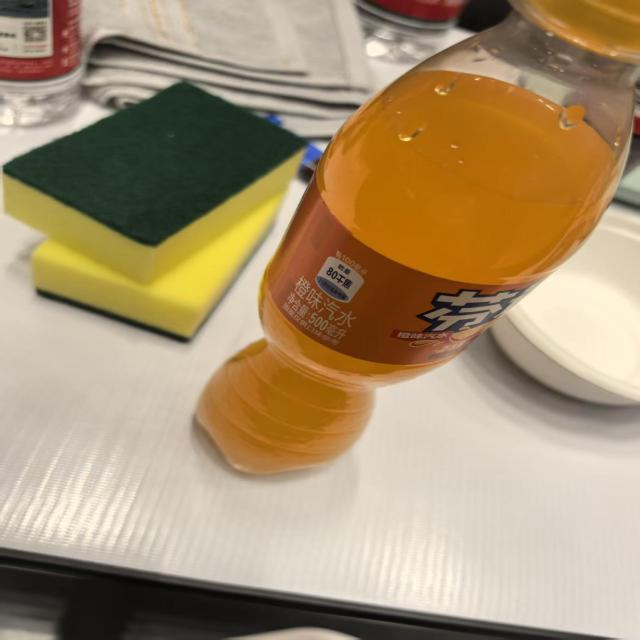orange: (402, 282, 519, 359)
